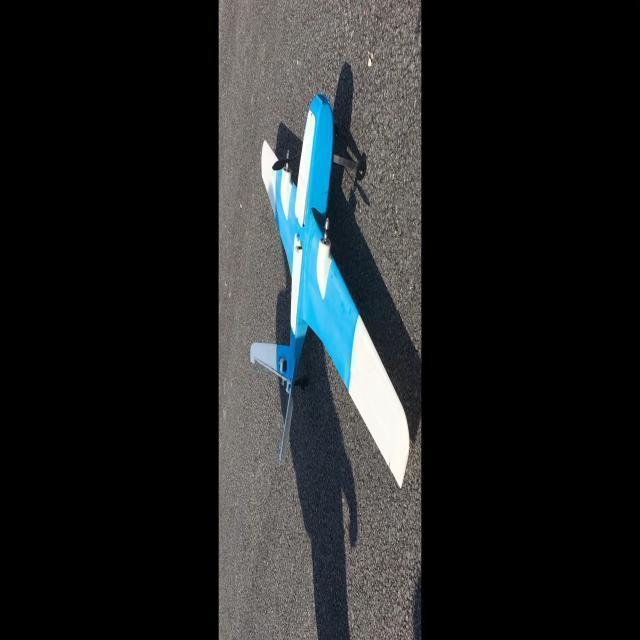iha: (290, 91, 348, 472)
